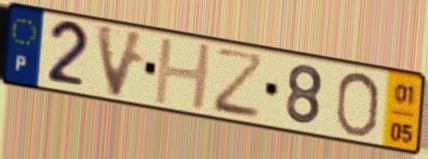2: (42, 19, 96, 93)
8: (284, 63, 325, 128)
H: (151, 37, 215, 113)
O: (332, 70, 383, 139)
V: (93, 21, 149, 102)
Z: (213, 46, 267, 123)
